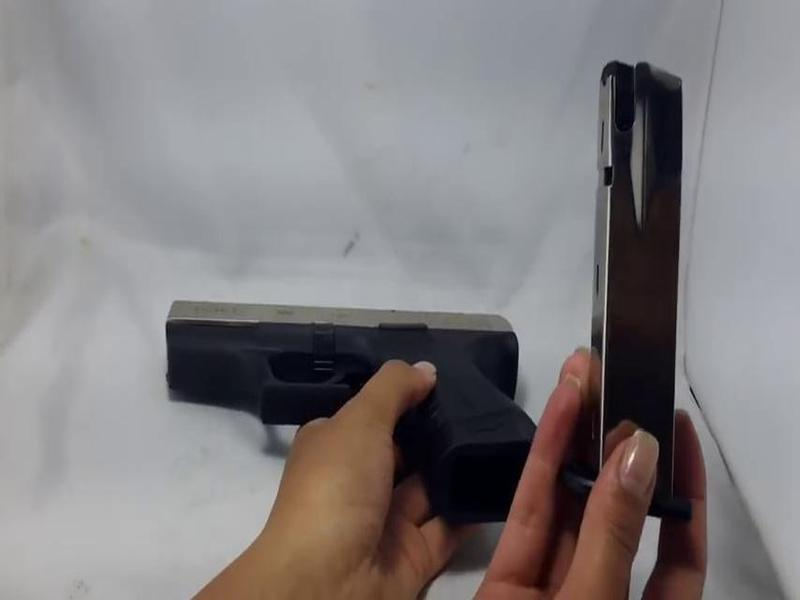Pistola: (137, 273, 547, 538)
